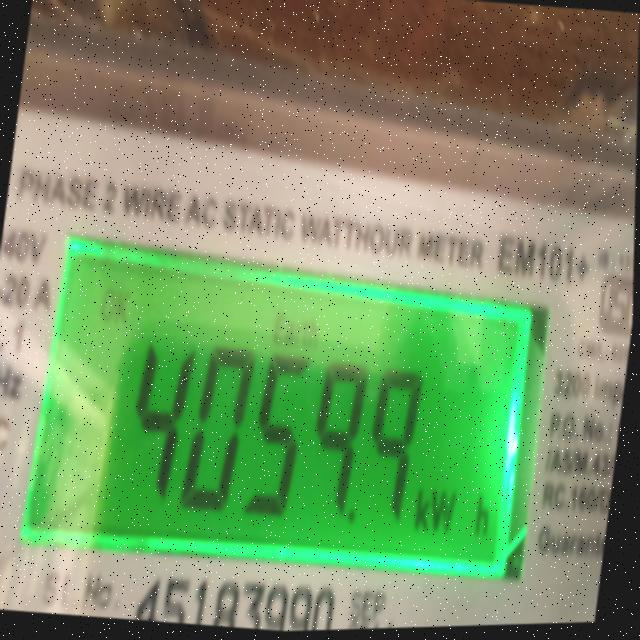.: (345, 511, 363, 530)
0: (181, 337, 259, 525)
4: (118, 334, 200, 507)
5: (244, 344, 323, 531)
9: (362, 360, 432, 531), (306, 352, 375, 524)
